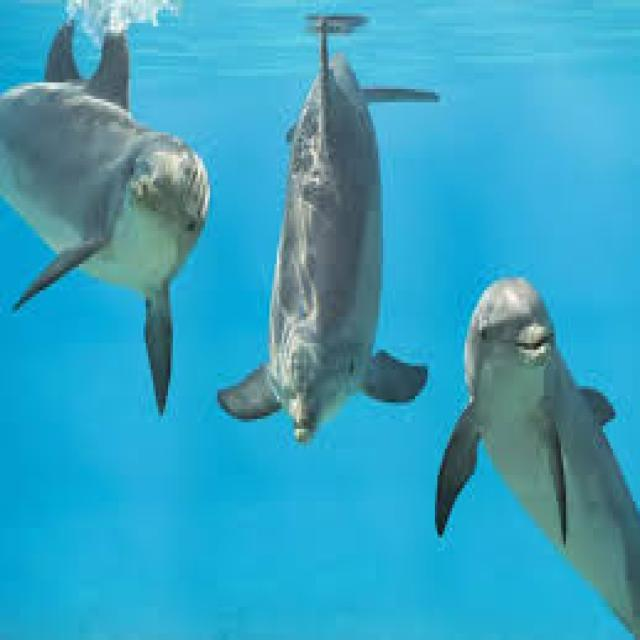Dolphin: (218, 18, 431, 434), (4, 27, 211, 416), (438, 277, 640, 631)
